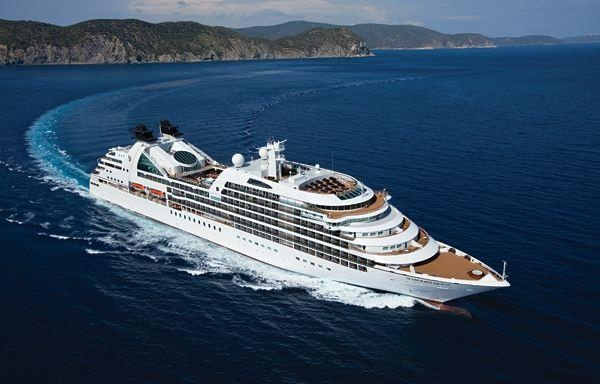youlun: (89, 120, 514, 316)
